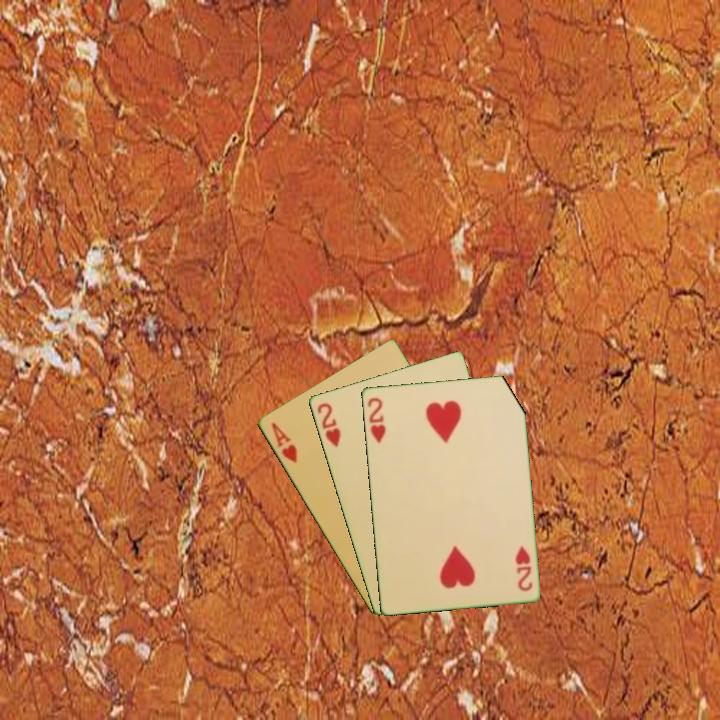2h: (313, 399, 343, 450), (511, 542, 535, 594), (364, 394, 388, 445)
Ah: (267, 419, 300, 466)
